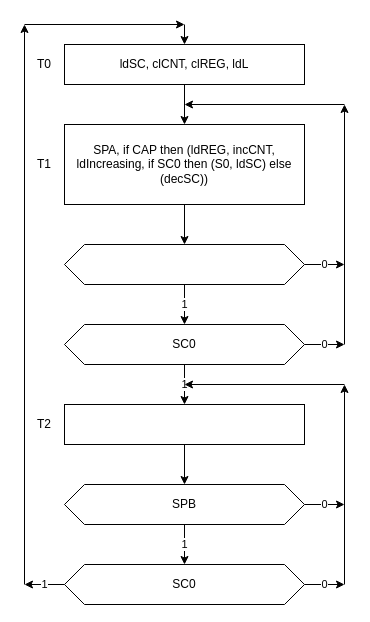
Some shapes in this 370 by 622 pixel diagram are drawn without their labels. Here are the shapes that lost their labels. From the top down, the centre of each, then its label:
pixel 184 264: CAP
pixel 184 424: if SPB then (CPB, srCNT, decSC)
